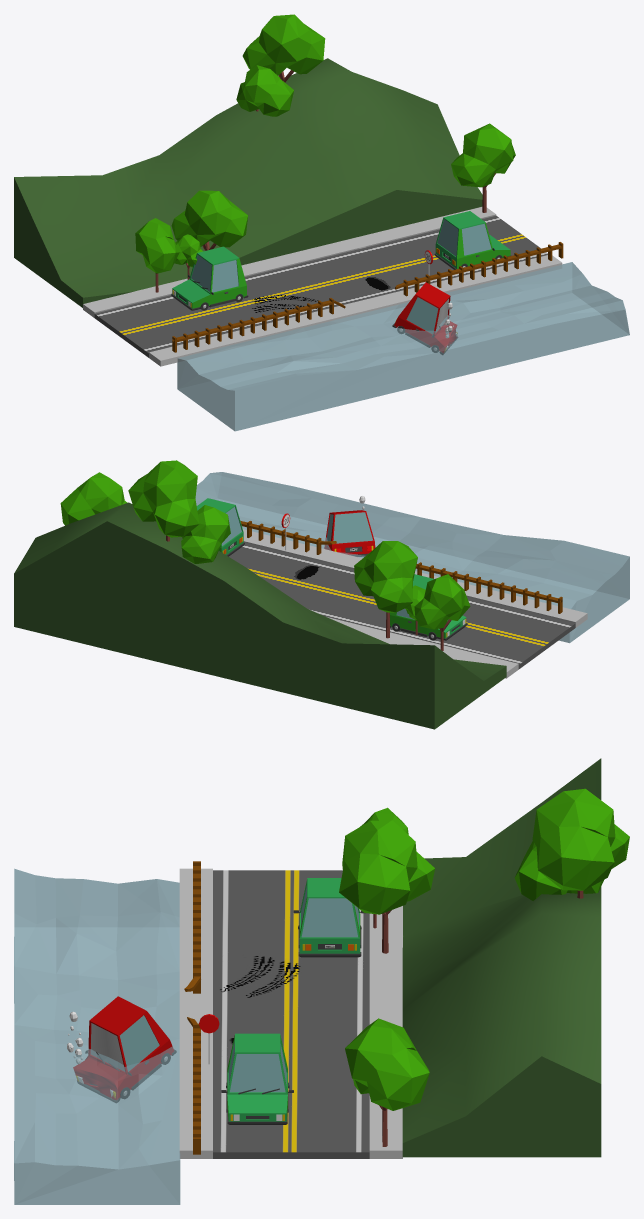
Rendered from CenaRio.fbx.
The picture shows the model from 3 angles, top to bottom: view 1: azimuth 30°, elevation 25°; view 2: azimuth 150°, elevation 25°; view 3: azimuth 270°, elevation 25°; orthographic projection. The views are drawn at different scales.
Parts seen in each view (by area): view 1: Montanha1, Rio1, Rua1, Arvores1, Cerca1, CarroVerde3, CarroVerde4, CarroVermelho1; view 2: Montanha1, Rio1, Rua1, Arvores1, Cerca1, CarroVermelho1, CarroVerde3, CarroVerde4; view 3: Montanha1, Rio1, Rua1, Arvores1, CarroVermelho1, CarroVerde4, CarroVerde3, Cerca1.
Boxes of the visible parts, x1,y1,x2,y2 form: Montanha1: [14, 58, 482, 307]; Rio1: [177, 262, 629, 431]; Rua1: [83, 207, 562, 366]; Arvores1: [135, 14, 515, 292]; Cerca1: [172, 242, 563, 352]; CarroVerde3: [171, 246, 248, 310]; CarroVerde4: [434, 211, 511, 269]; CarroVermelho1: [392, 282, 457, 354]; Montanha1: [14, 502, 506, 729]; Rio1: [195, 472, 629, 643]; Rua1: [229, 529, 587, 678]; Arvores1: [60, 460, 470, 650]; Cerca1: [239, 518, 562, 613]; CarroVermelho1: [324, 510, 375, 556]; CarroVerde3: [390, 574, 467, 640]; CarroVerde4: [196, 498, 244, 556]; Montanha1: [402, 758, 601, 1157]; Rio1: [14, 868, 180, 1204]; Rua1: [179, 868, 402, 1158]; Arvores1: [339, 788, 629, 1146]; CarroVermelho1: [73, 996, 176, 1102]; CarroVerde4: [221, 1033, 293, 1124]; CarroVerde3: [293, 878, 365, 957]; Cerca1: [184, 861, 200, 1154].
Size of the model in its own units: 30.55 by 14.56 by 26.5.
